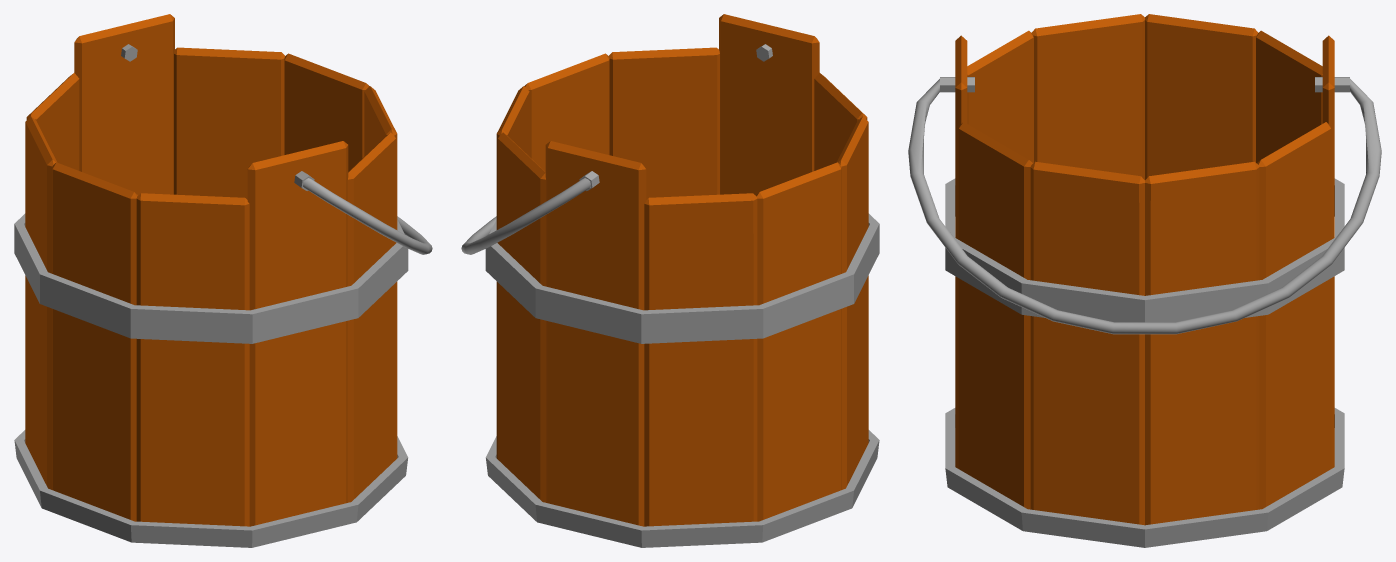
File: WaterBucketEmpty.fbx
3 renders of one model, left to right at view 1: azimuth 30°, elevation 25°; view 2: azimuth 150°, elevation 25°; view 3: azimuth 270°, elevation 25°, orthographic. The views are drawn at different scales.
Visible parts, largest first — view 1: WaterBucket; view 2: WaterBucket; view 3: WaterBucket.
Boxes of the visible parts, x1,y1,x2,y2 form: WaterBucket: [14, 14, 432, 547]; WaterBucket: [461, 14, 879, 547]; WaterBucket: [908, 14, 1381, 547].
Bounding box in the file's own units: 215 × 223 × 237.
